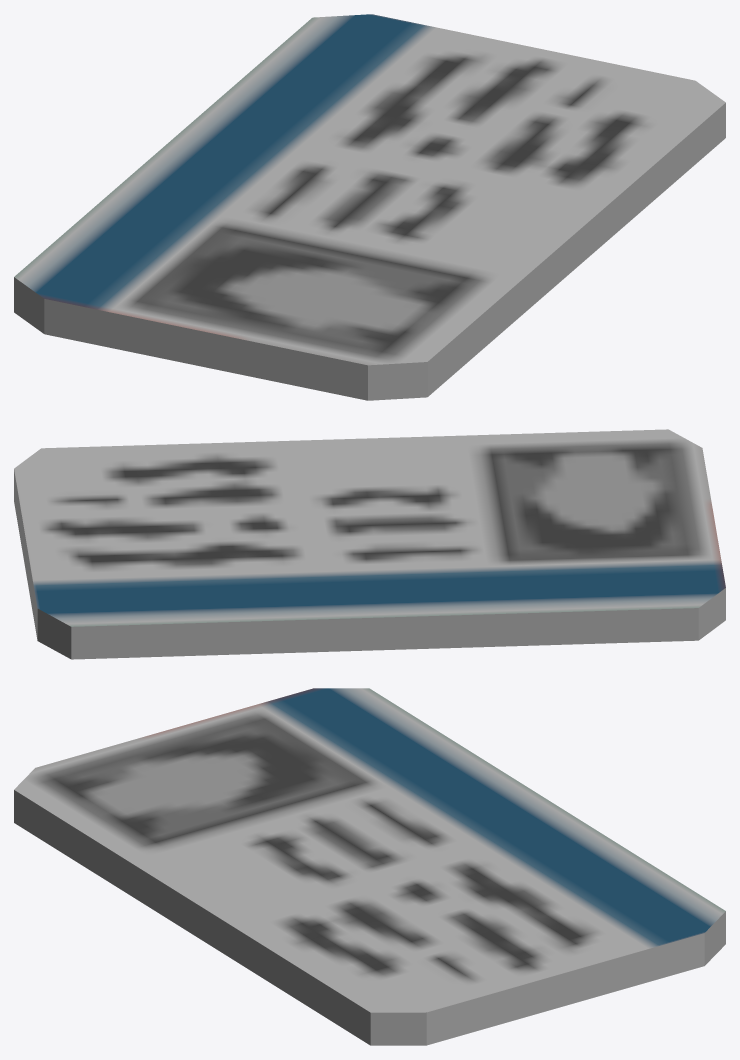
The model's file is Card.fbx.
3 views of the same model, one above another, from view 1: azimuth 30°, elevation 25°; view 2: azimuth 150°, elevation 25°; view 3: azimuth 270°, elevation 25° (orthographic). The views are drawn at different scales.
Parts seen in each view (by area): view 1: huitugou_2200_3254; view 2: huitugou_2200_3254; view 3: huitugou_2200_3254.
Boxes of the visible parts, <box> form: huitugou_2200_3254: <box>14,14,725,400</box>; huitugou_2200_3254: <box>14,429,725,659</box>; huitugou_2200_3254: <box>14,688,725,1045</box>.
Size of the model in its own units: 21.21 by 1.01 by 19.67.
1 material, 1 textured.
